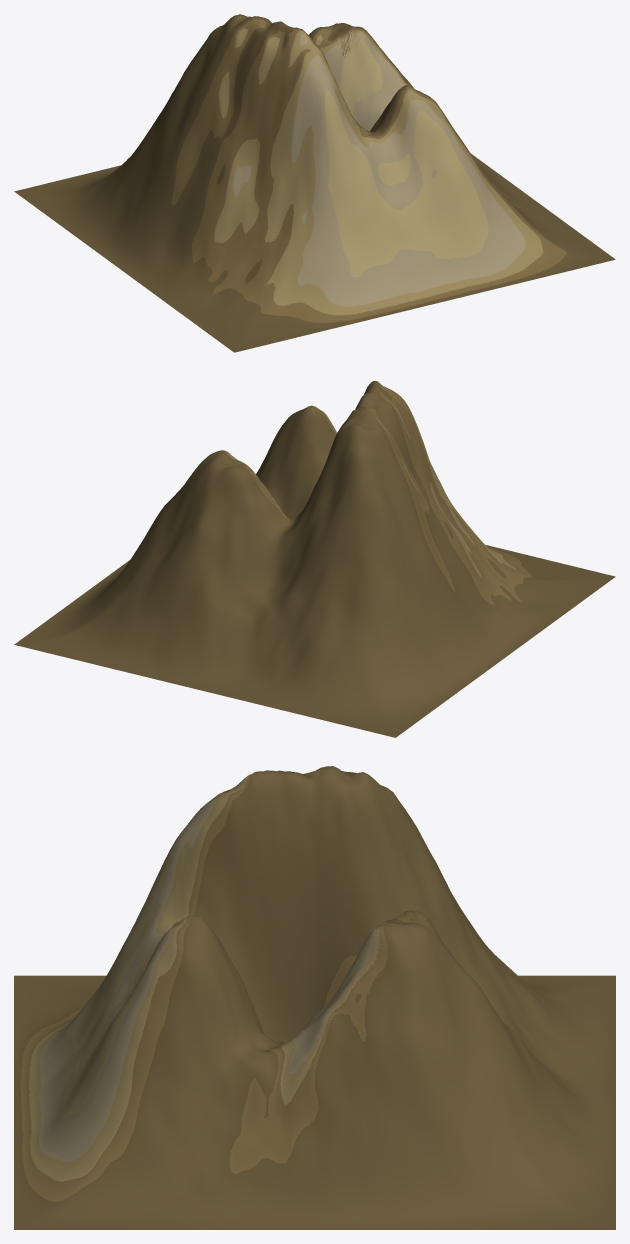
The picture shows the model from 3 angles, top to bottom: view 1: azimuth 30°, elevation 25°; view 2: azimuth 150°, elevation 25°; view 3: azimuth 270°, elevation 25°; orthographic projection. The views are drawn at different scales.
Parts seen in each view (by area): view 1: Landscape.1; view 2: Landscape.1; view 3: Landscape.1.
Boxes of the visible parts, bbox=[...] form: Landscape.1: bbox=[14, 14, 615, 352]; Landscape.1: bbox=[14, 381, 615, 737]; Landscape.1: bbox=[14, 766, 615, 1229].
Bounding box in the file's own units: 1000 × 558 × 1000.
1 material, 1 textured.
